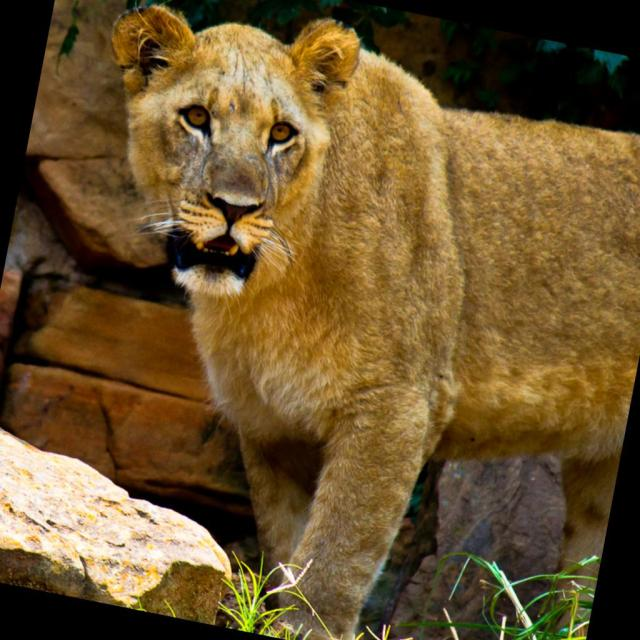Lion: (6, 0, 639, 639)
